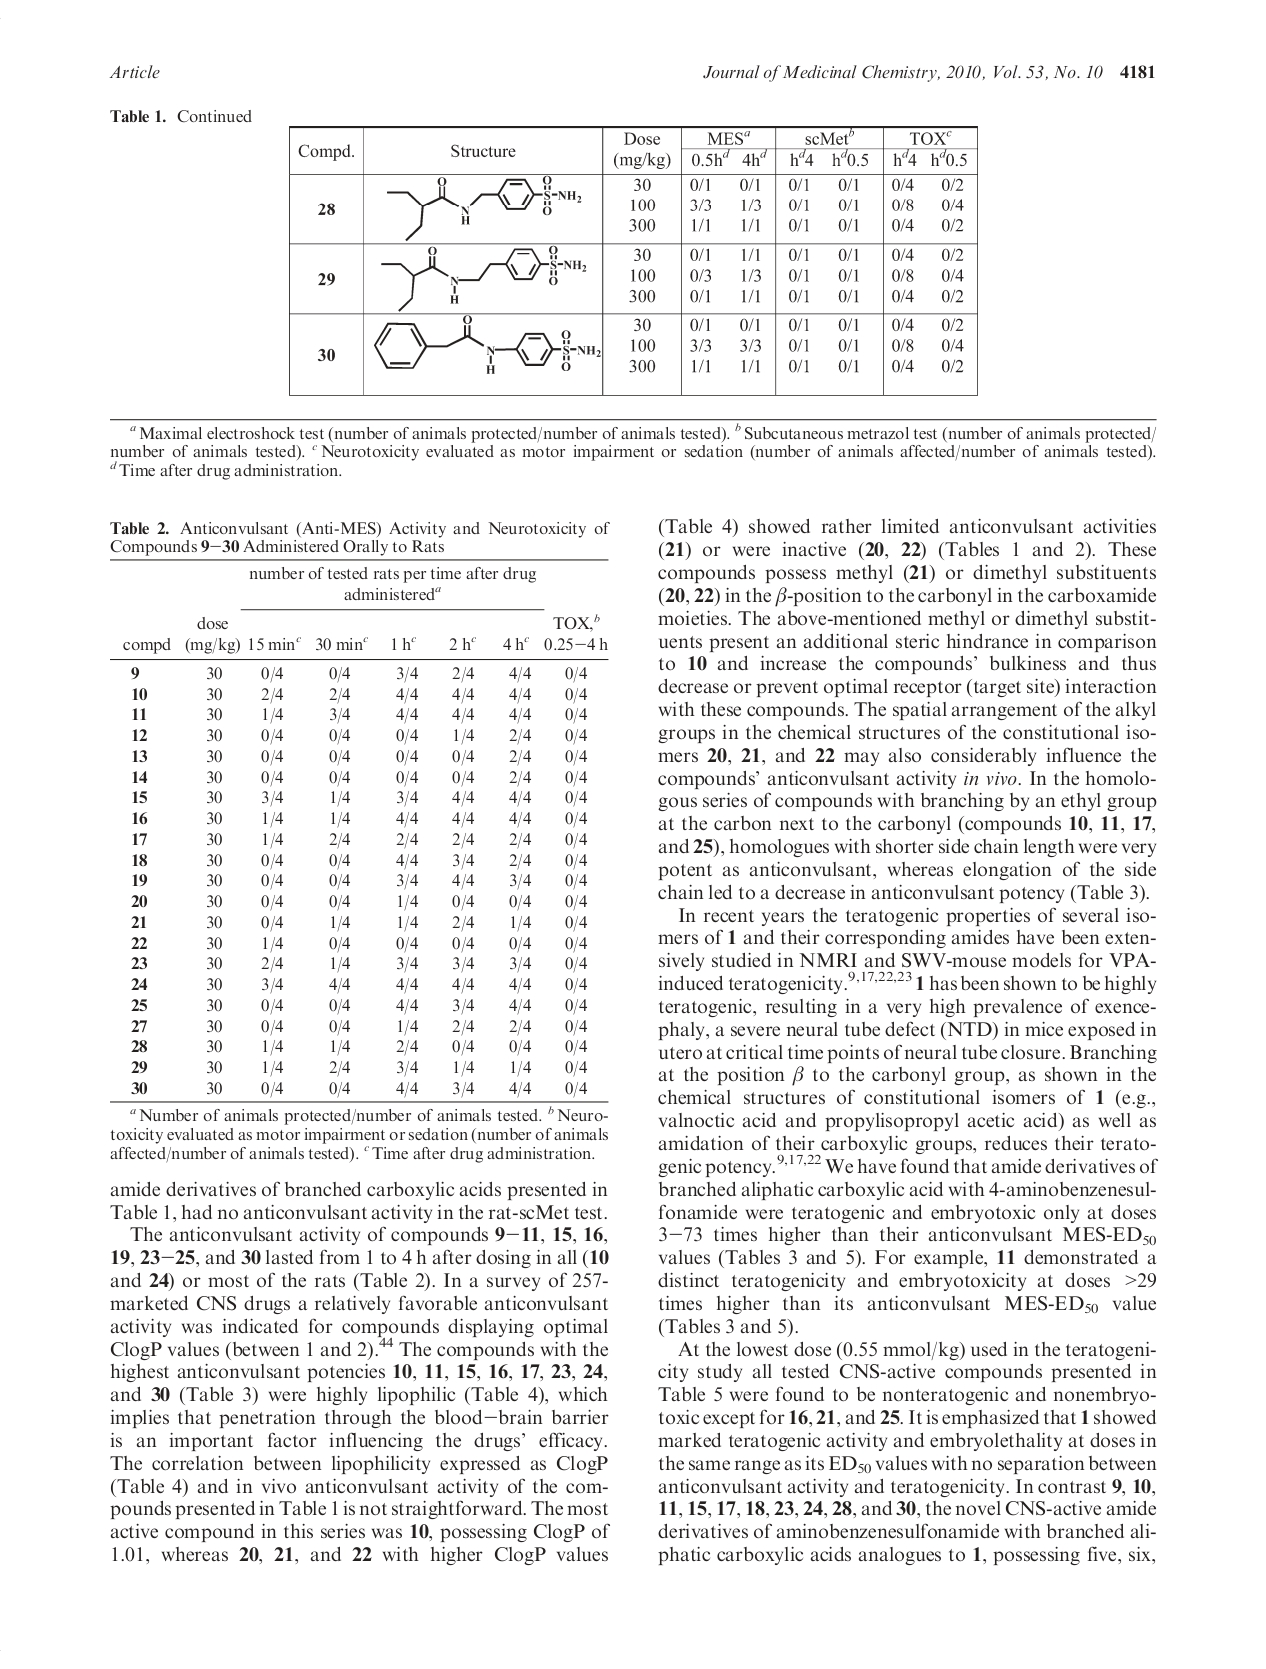exist_molecular: (375, 314, 602, 379), (379, 243, 590, 313), (382, 176, 586, 243)
